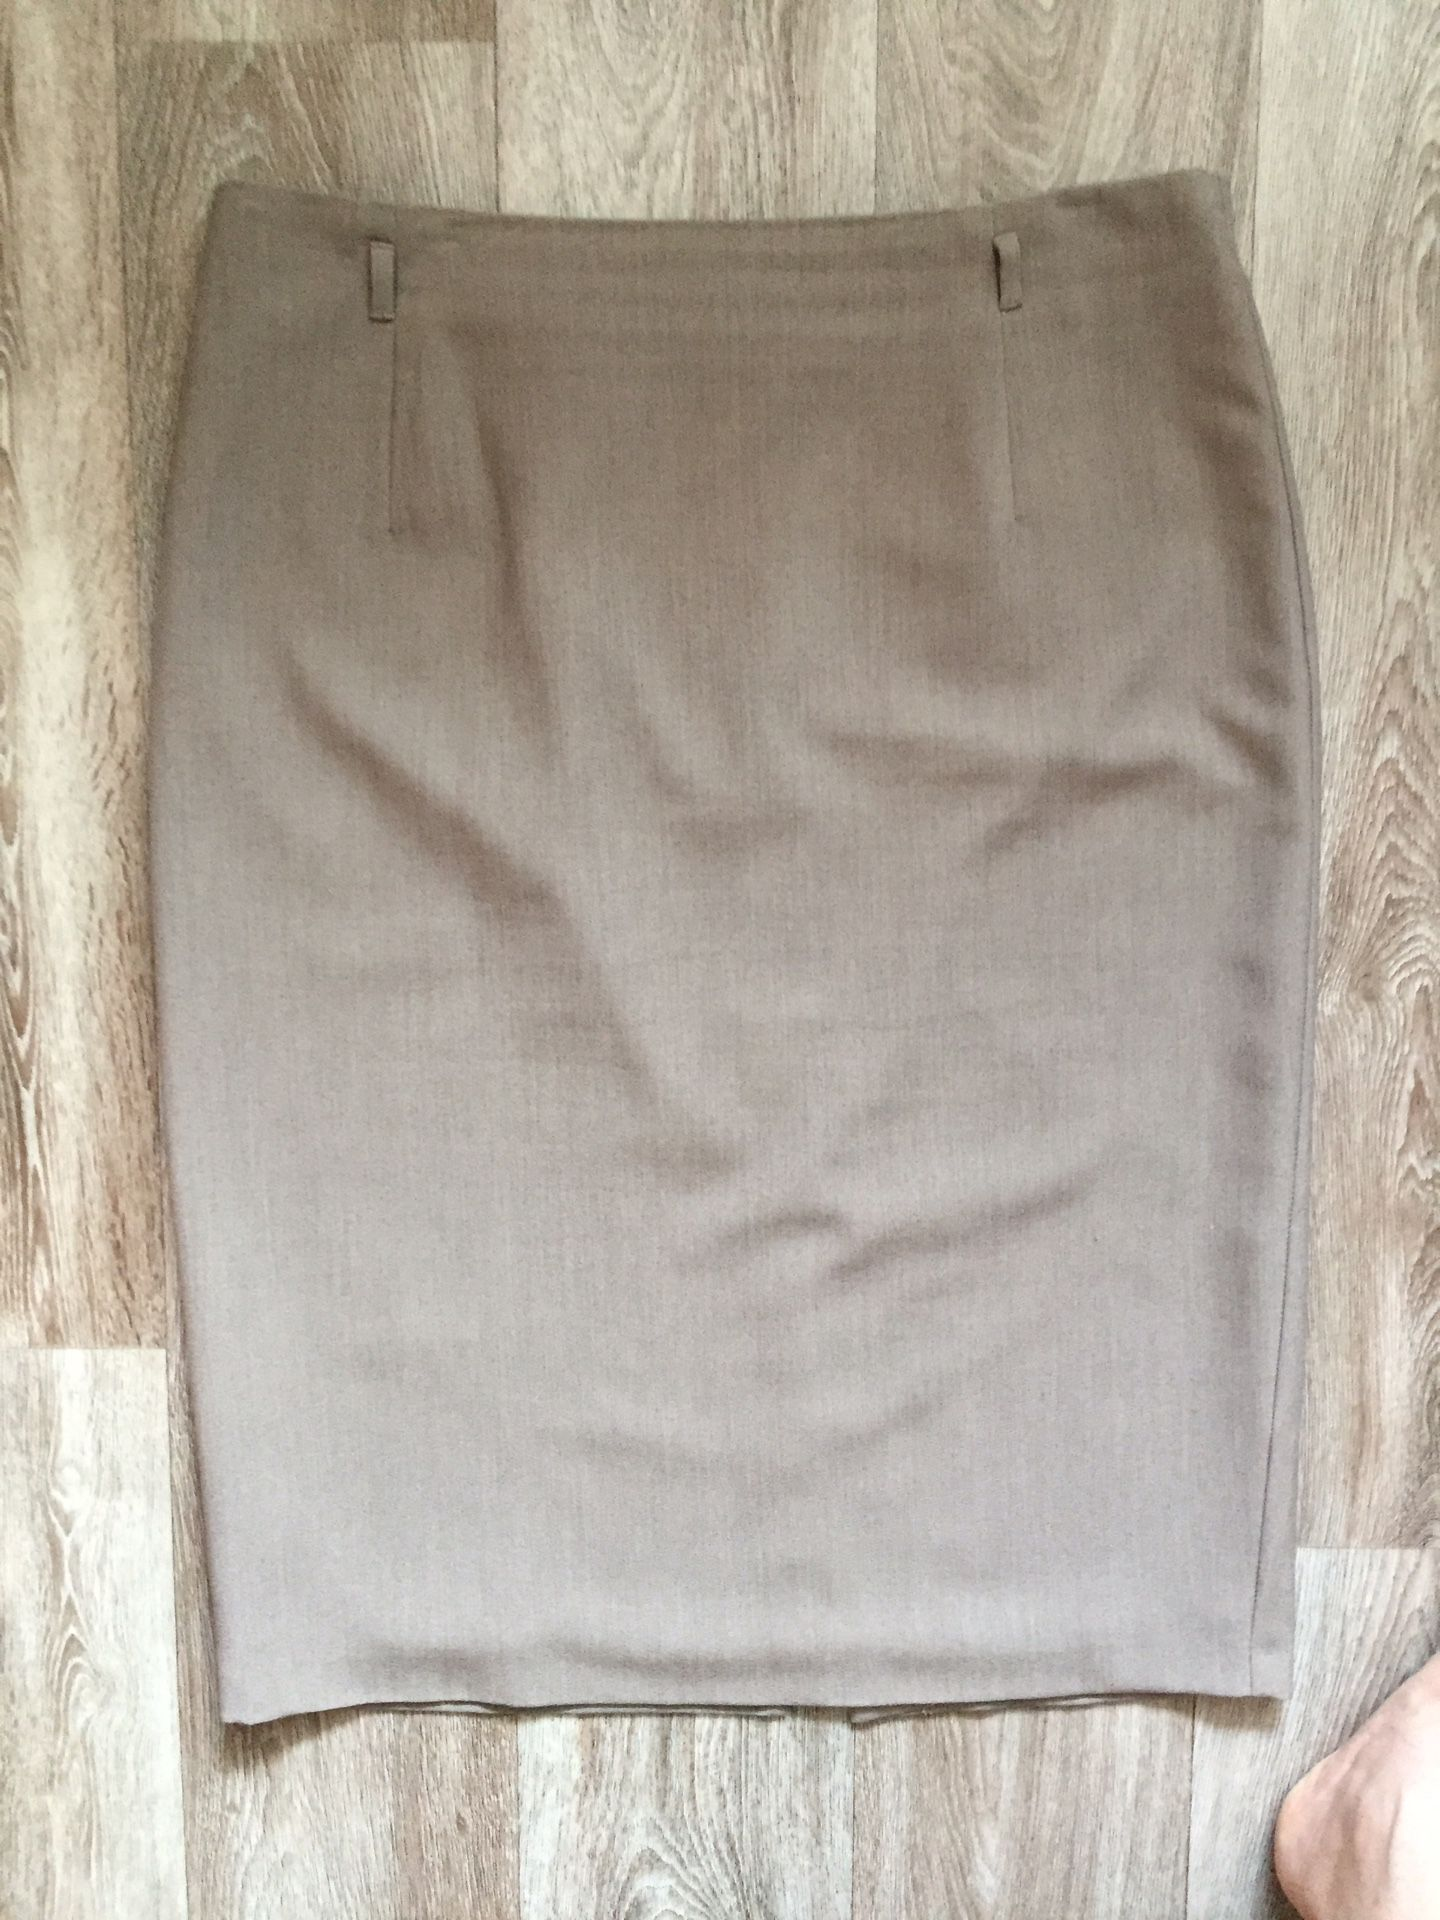clothes: (150, 157, 1313, 1736)
